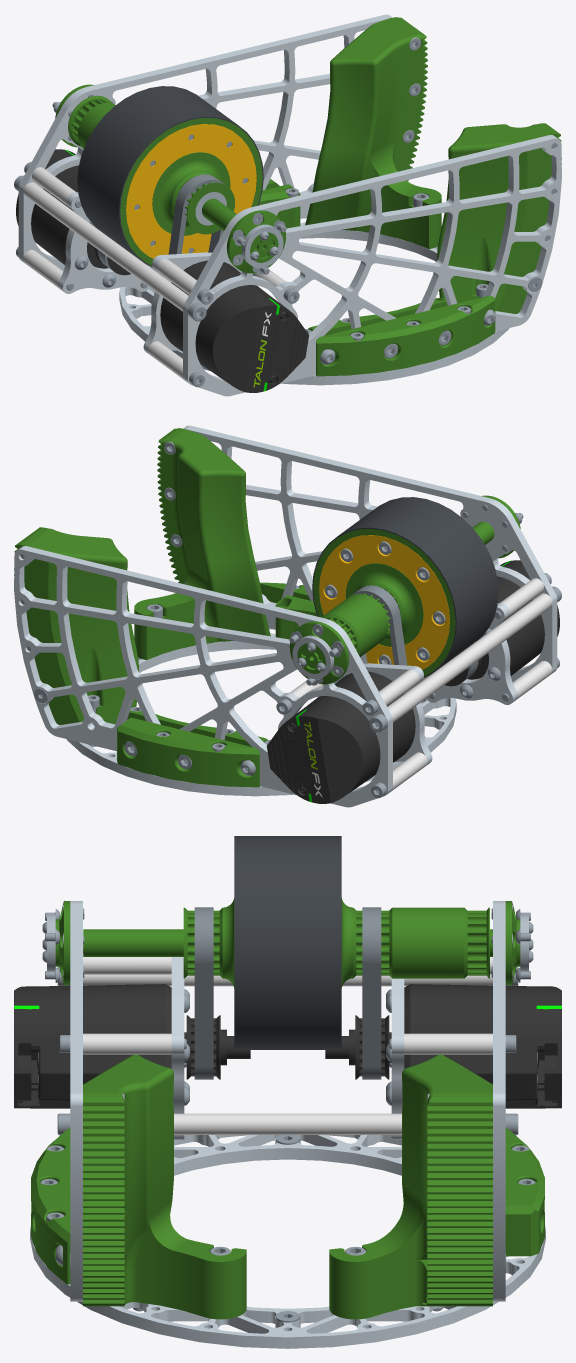
The picture shows the model from 3 angles, top to bottom: view 1: azimuth 30°, elevation 25°; view 2: azimuth 150°, elevation 25°; view 3: azimuth 270°, elevation 25°; orthographic projection. The views are drawn at different scales.
Visible parts, largest first — view 1: NF26-SHT-CP-00.0, Hood Di?lisi (Sa?), Hood Di?lisi (Sol), NF26-SHT-CP-00.2, Kraken X60 Brushless Motor (×2), NF26-SHT-CP-01.1, NF26-SHT-CP-00.13, NF26-SHT-CP-01.3, NF26-SHT-CP-01.0, NF26-SHT-CP-00.10, NF26-SHT-SPC-01, NF26-SHT-SPC-00 (×4) (+9 smaller); view 2: NF26-SHT-CP-00.2, Hood Di?lisi (Sol), Hood Di?lisi (Sa?), NF26-SHT-CP-00.0, Kraken X60 Brushless Motor (×2), NF26-SHT-CP-01.1, NF26-SHT-CP-01.0, NF26-SHT-CP-00.15, NF26-SHT-CP-01.2, NF26-SHT-CP-00.10, NF26-SHT-SPC-01, NF26-SHT-SPC-00 (×4) (+9 smaller); view 3: Hood Di?lisi (Sa?), Hood Di?lisi (Sol), NF26-SHT-CP-01.1, Kraken X60 Brushless Motor (×2), NF26-SHT-CP-00.10, NF26-SHT-CP-01.0, NF26-SHT-SPC-01 (×2), 5M 215 (×2), NF26-SHT-SPC-00 (×3), NF26-SHT-CP-00.0, NF26-SHT-CP-00.2, NF26-SHT-CP-00.13 (+7 smaller).
Part boxes in pixels (x1=…): NF26-SHT-CP-00.0: x1=183, y1=135, x2=561, y2=396; Hood Di?lisi (Sa?): x1=305, y1=17, x2=441, y2=249; Hood Di?lisi (Sol): x1=437, y1=123, x2=561, y2=313; NF26-SHT-CP-00.2: x1=18, y1=14, x2=392, y2=271; Kraken X60 Brushless Motor (×2): x1=16, y1=149, x2=281, y2=392; NF26-SHT-CP-01.1: x1=77, y1=86, x2=263, y2=266; NF26-SHT-CP-00.13: x1=316, y1=295, x2=495, y2=376; NF26-SHT-CP-01.3: x1=126, y1=124, x2=256, y2=258; NF26-SHT-CP-01.0: x1=68, y1=95, x2=262, y2=265; NF26-SHT-CP-00.10: x1=119, y1=217, x2=509, y2=385; NF26-SHT-SPC-01: x1=23, y1=182, x2=188, y2=311; NF26-SHT-SPC-00 (×4): x1=23, y1=167, x2=196, y2=379; NF26-SHT-CP-00.2: x1=14, y1=546, x2=392, y2=807; Hood Di?lisi (Sol): x1=134, y1=428, x2=270, y2=660; Hood Di?lisi (Sa?): x1=14, y1=527, x2=138, y2=724; NF26-SHT-CP-00.0: x1=183, y1=425, x2=557, y2=682; Kraken X60 Brushless Motor (×2): x1=294, y1=560, x2=559, y2=803; NF26-SHT-CP-01.1: x1=312, y1=497, x2=498, y2=677; NF26-SHT-CP-01.0: x1=313, y1=529, x2=455, y2=676; NF26-SHT-CP-00.15: x1=117, y1=717, x2=259, y2=787; NF26-SHT-CP-01.2: x1=319, y1=535, x2=449, y2=669; NF26-SHT-CP-00.10: x1=66, y1=628, x2=456, y2=796; NF26-SHT-SPC-01: x1=387, y1=593, x2=552, y2=722; NF26-SHT-SPC-00 (×4): x1=379, y1=578, x2=552, y2=790; Hood Di?lisi (Sa?): x1=329, y1=1054, x2=492, y2=1319; Hood Di?lisi (Sol): x1=83, y1=1054, x2=246, y2=1319; NF26-SHT-CP-01.1: x1=234, y1=836, x2=341, y2=1049; Kraken X60 Brushless Motor (×2): x1=14, y1=984, x2=561, y2=1108; NF26-SHT-CP-00.10: x1=30, y1=1135, x2=545, y2=1348; NF26-SHT-CP-01.0: x1=183, y1=898, x2=489, y2=988; NF26-SHT-SPC-01 (×2): x1=83, y1=974, x2=492, y2=1134; 5M 215 (×2): x1=194, y1=907, x2=381, y2=1079; NF26-SHT-SPC-00 (×3): x1=83, y1=954, x2=492, y2=1054; NF26-SHT-CP-00.0: x1=70, y1=901, x2=82, y2=1301; NF26-SHT-CP-00.2: x1=493, y1=901, x2=505, y2=1301; NF26-SHT-CP-00.13: x1=31, y1=1127, x2=70, y2=1284.
Size of the model in its own units: 0.2778 by 0.1602 by 0.2593.
